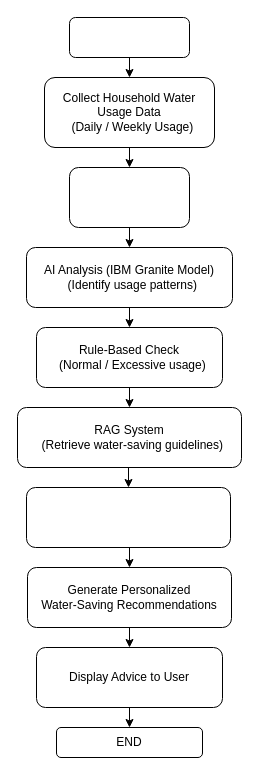
This 259x775 diagram has some shape labels left out. Here are the shapes that lost their labels. From the top down, the centre of each, then its label:
At pixel 129 37: "START".
At pixel 129 197: "Data Preprocessing (Clean & format data)".
At pixel 128 517: "Agentic AI Decision Engine (Combine analysis + guidelines)".
